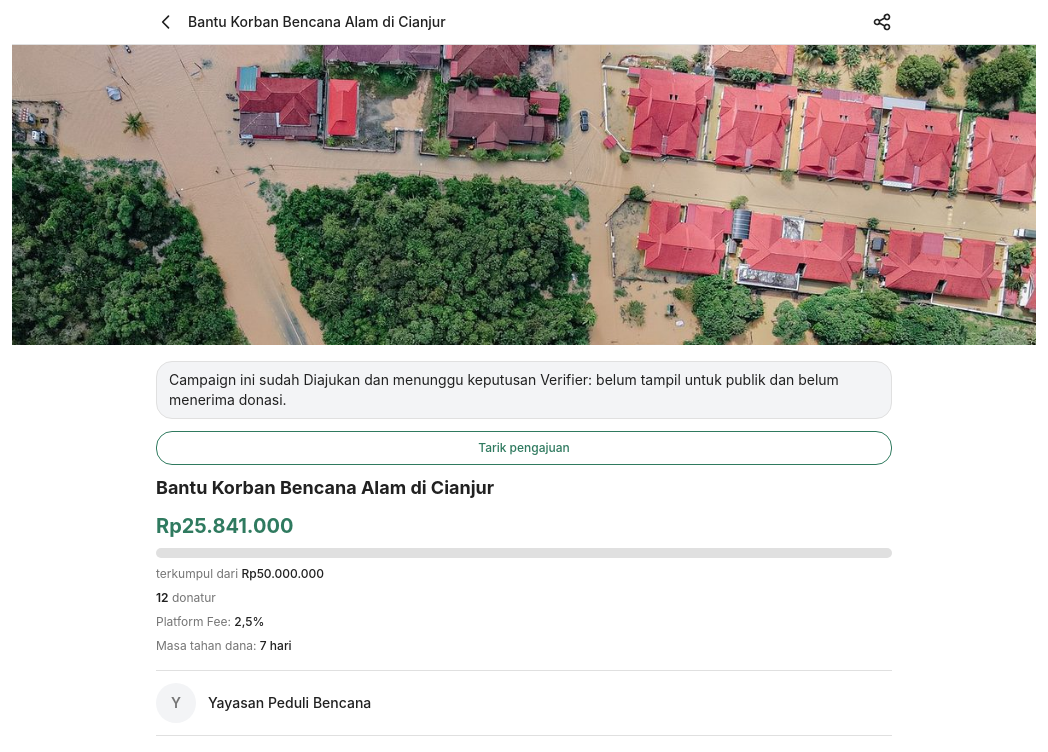
Test case: CampaignDetailView -- the Fundraiser withdraws a pending submission (verification-request 10) › withdraws the request and shows the Campaign back at Draft
Click the button "Tarik pengajuan".
click(524, 448)  # box [156,431,892,465]
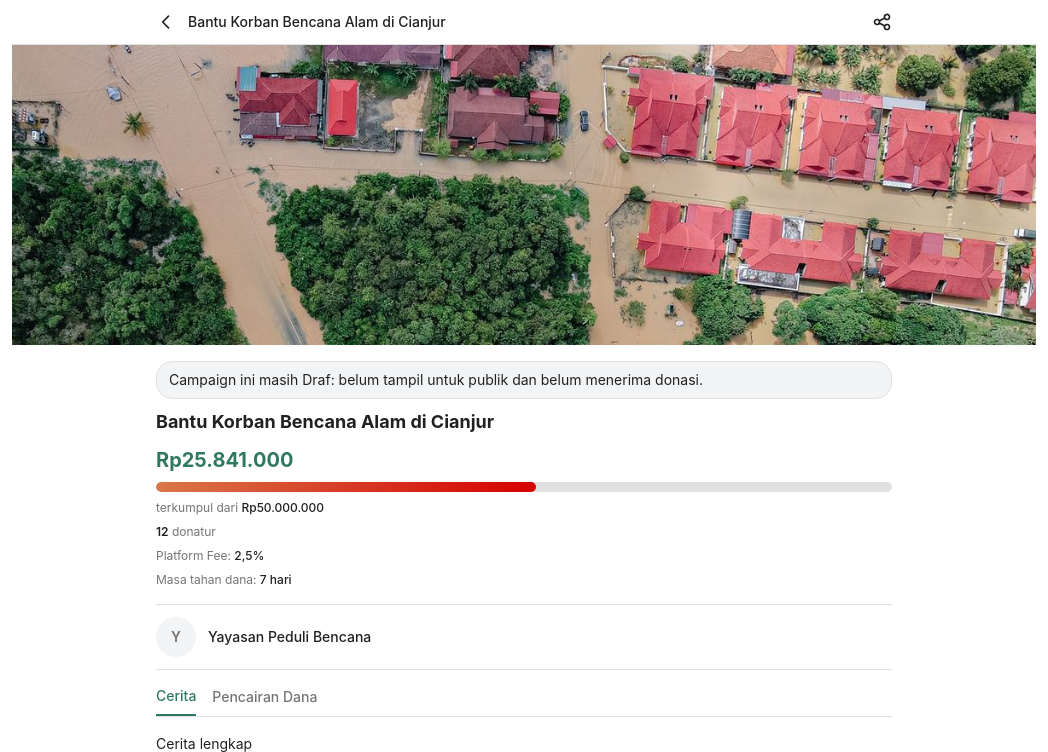
Result: the message named "Status Campaign" shows "Draf" at [169,371,703,388]
Result: the button "Tarik pengajuan" is gone
